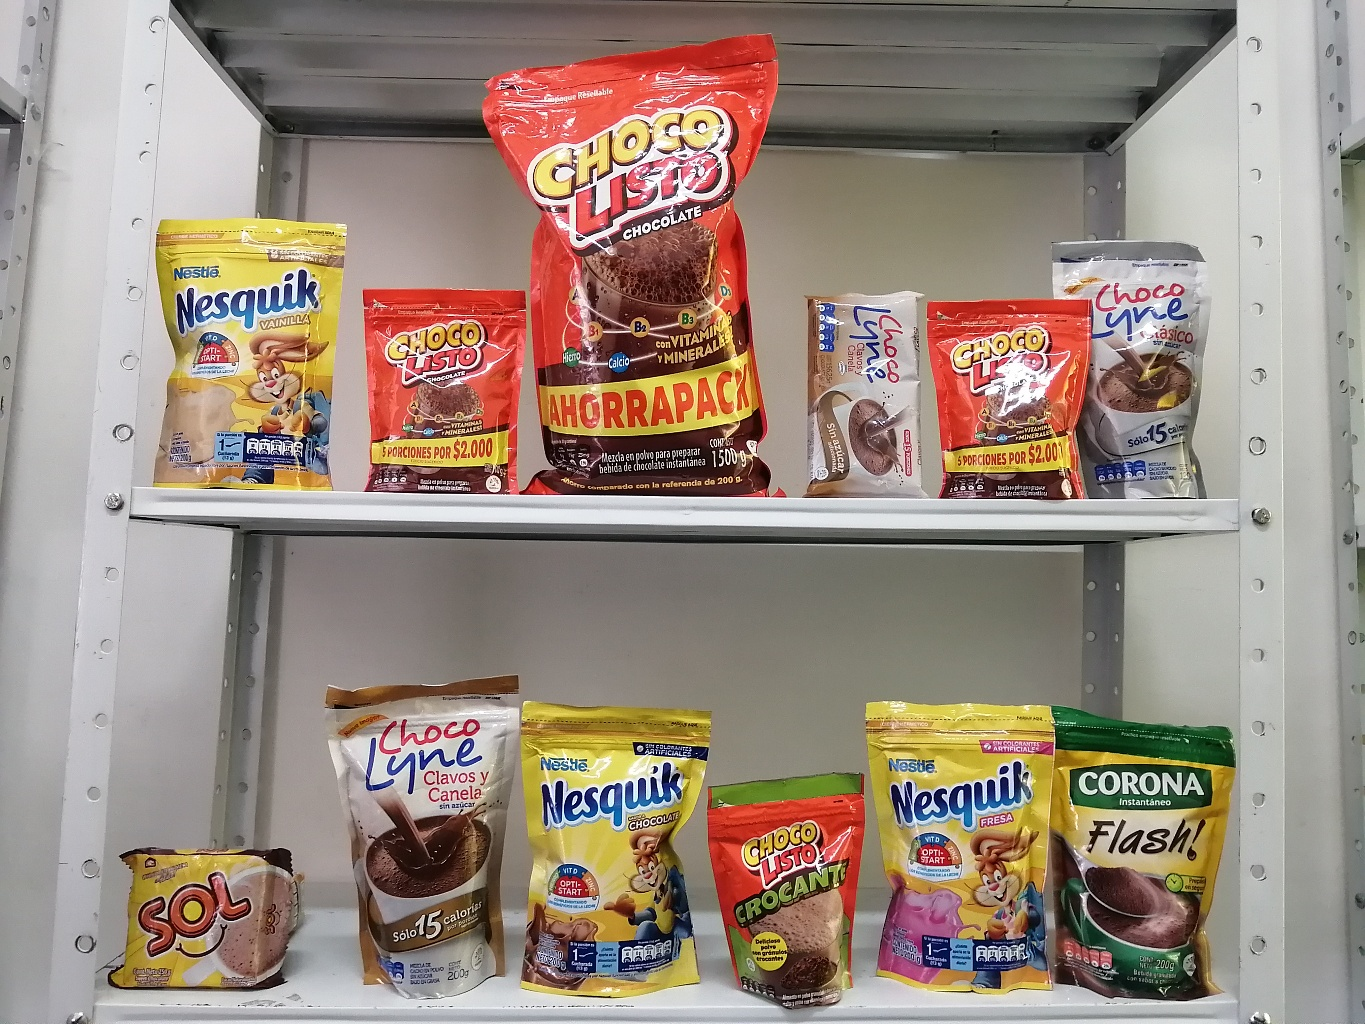COL0170102DYP10000: (691, 755, 888, 1019)
COL0170103DYP1,500: (459, 5, 811, 515)
COL0170303DYP20000: (493, 685, 741, 1019)
COL0170305DYP20000: (847, 673, 1085, 1002)
COL0170306DYP20000: (123, 203, 376, 515)
